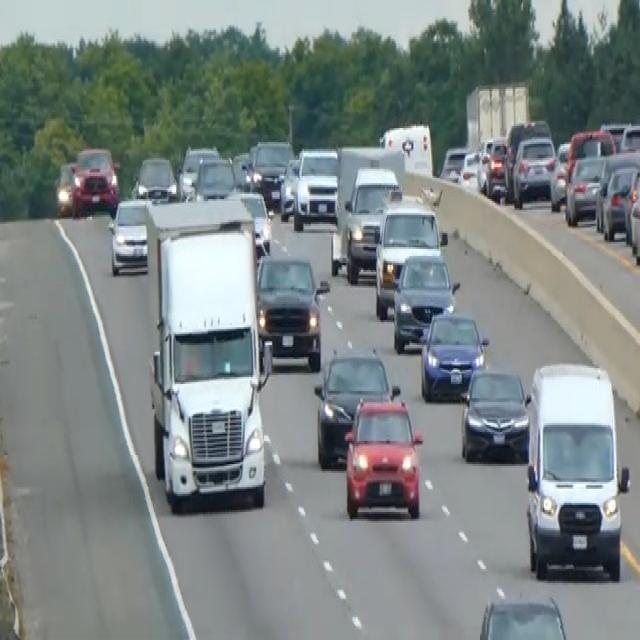car: (313, 345, 399, 467), (343, 395, 424, 519), (255, 250, 328, 372), (373, 199, 445, 320), (391, 247, 458, 352), (459, 364, 530, 462), (419, 308, 489, 402), (475, 594, 570, 638), (292, 144, 338, 231), (107, 194, 153, 276), (70, 144, 119, 215), (512, 134, 557, 206), (226, 187, 272, 256), (564, 151, 606, 226), (248, 137, 292, 206), (599, 164, 638, 240), (177, 142, 220, 198), (131, 153, 178, 203), (191, 155, 238, 201), (477, 135, 509, 197), (278, 154, 300, 218), (54, 158, 77, 215), (627, 165, 639, 265), (440, 142, 468, 183)
lorry: (145, 204, 272, 512)
minibus: (522, 357, 631, 583)
truck: (343, 164, 402, 282)
